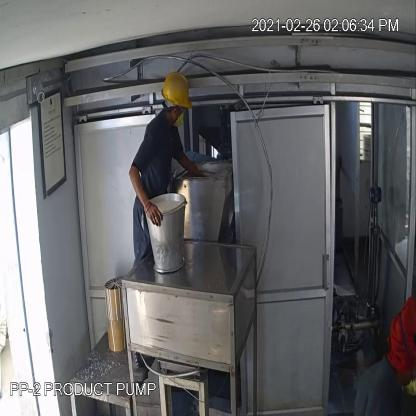helmet: (154, 64, 198, 112)
